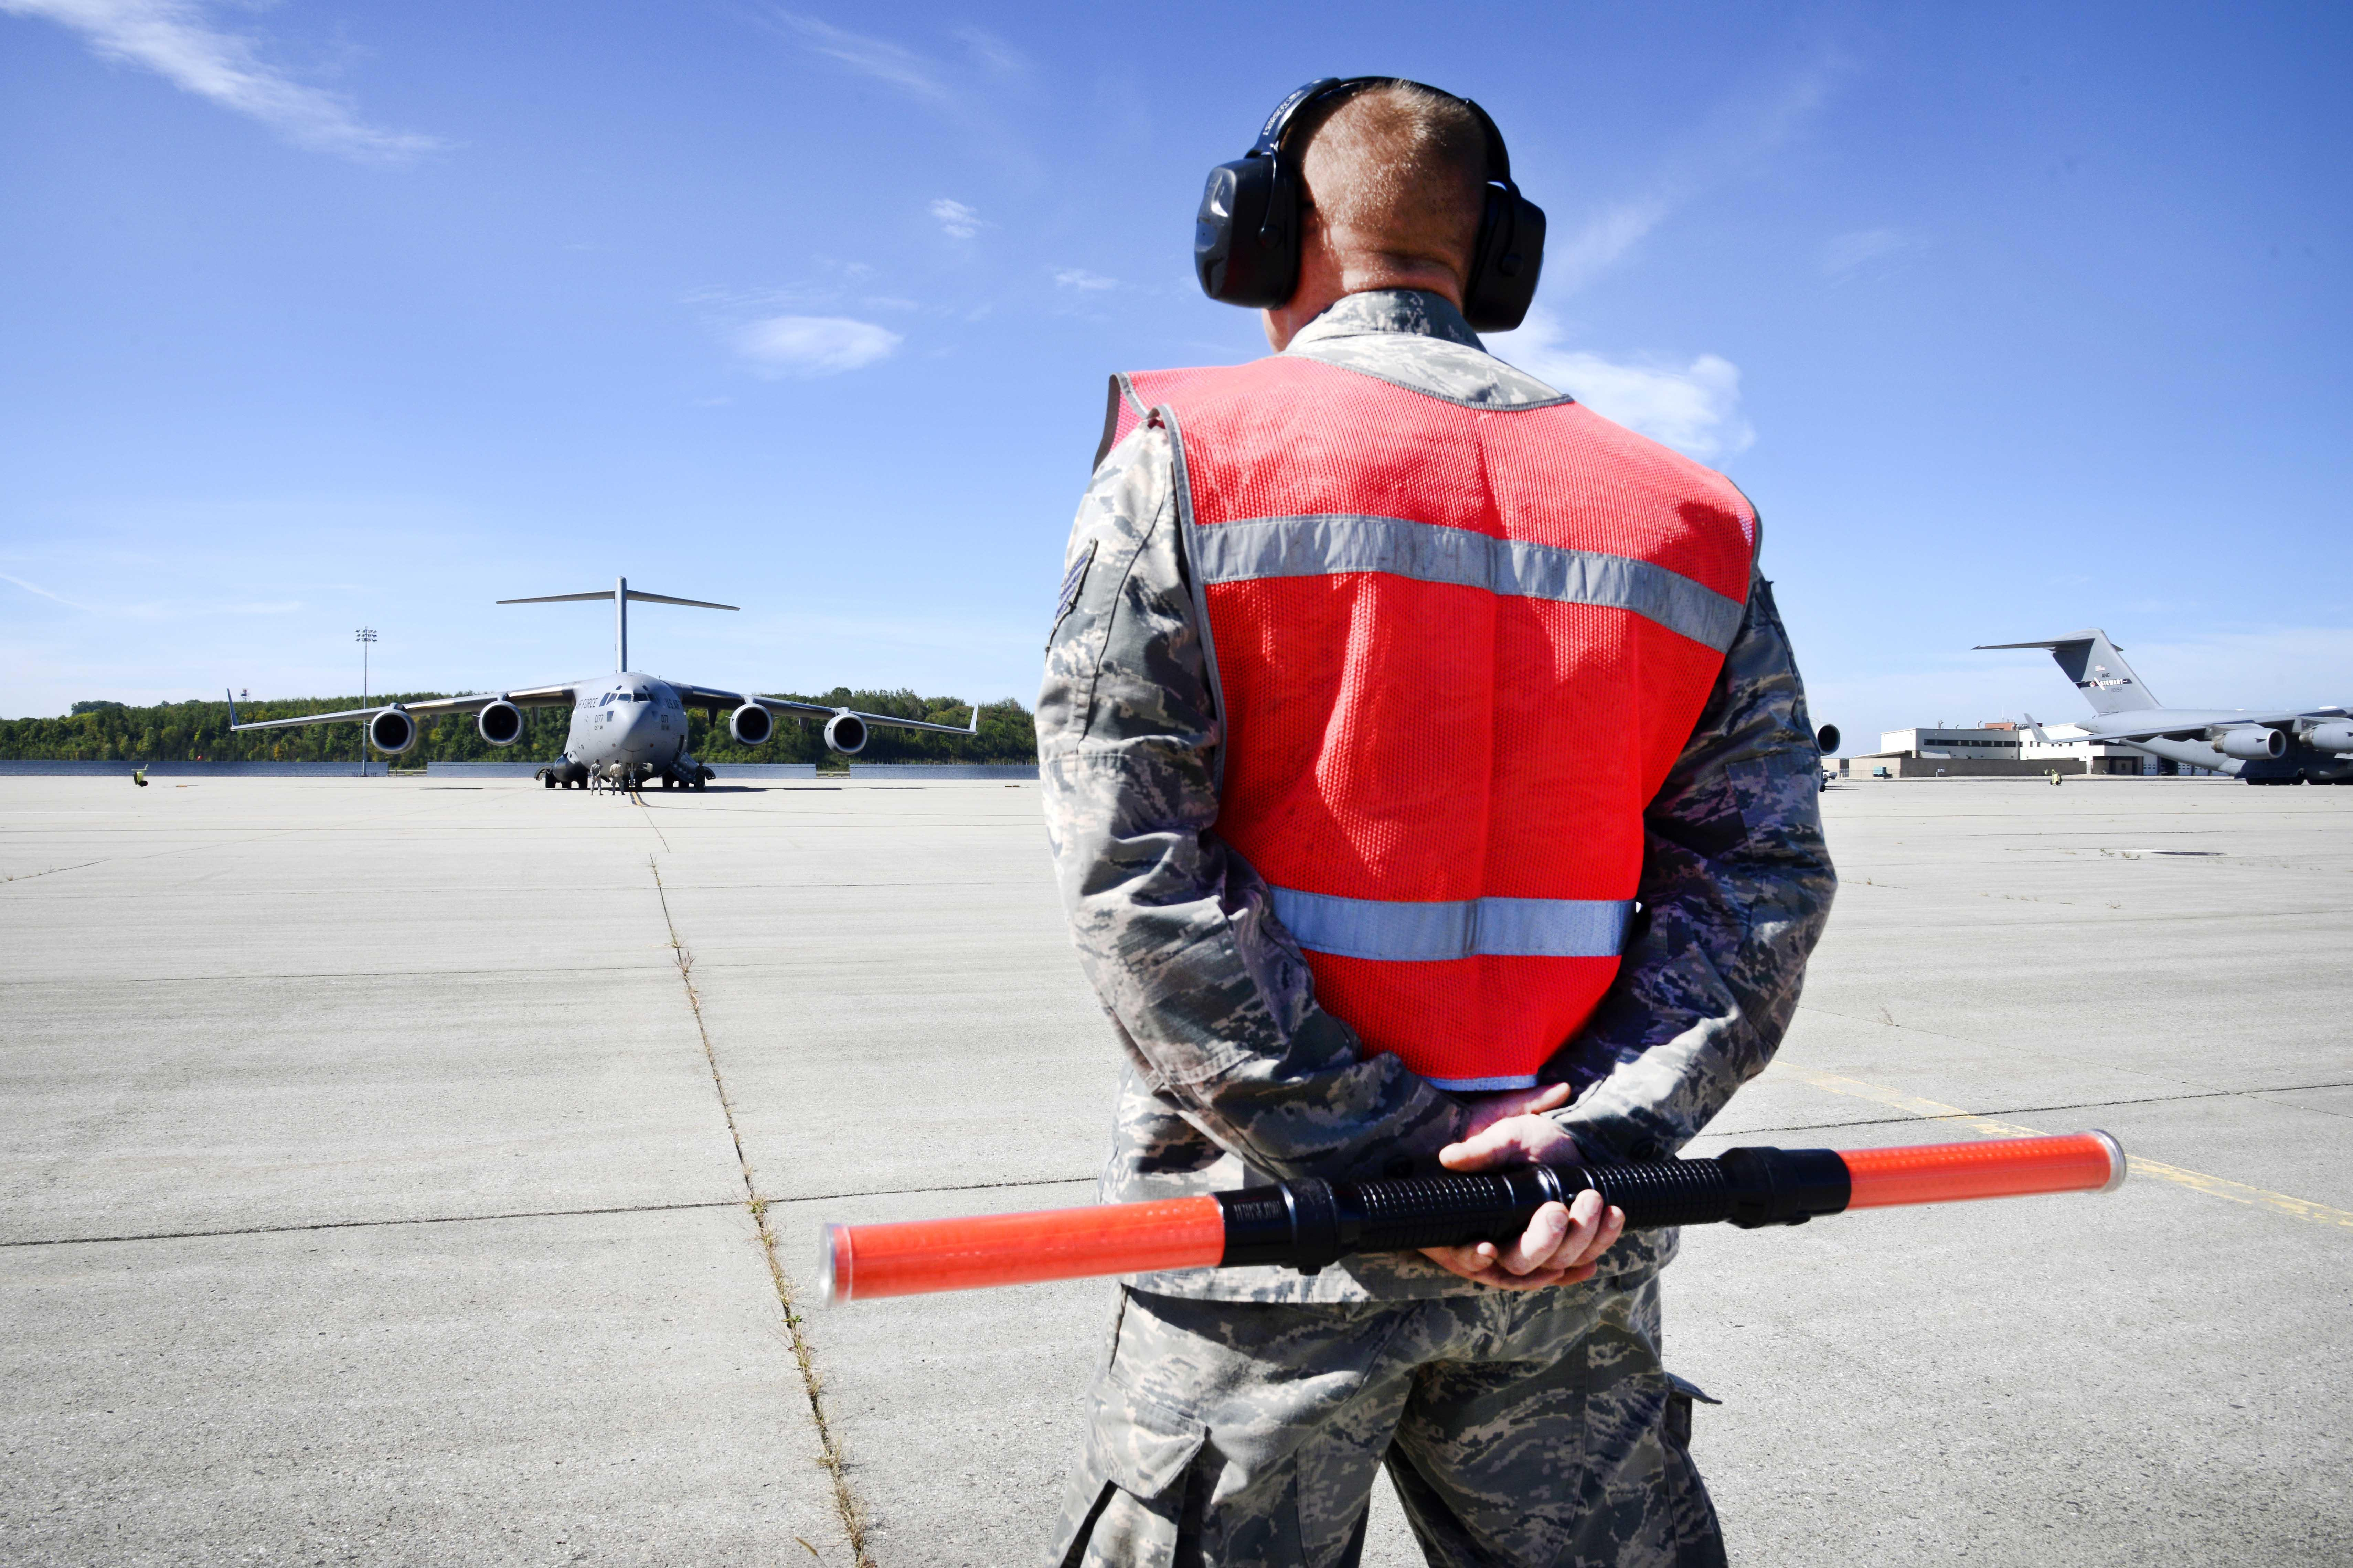vest: (1073, 322, 1791, 1127)
